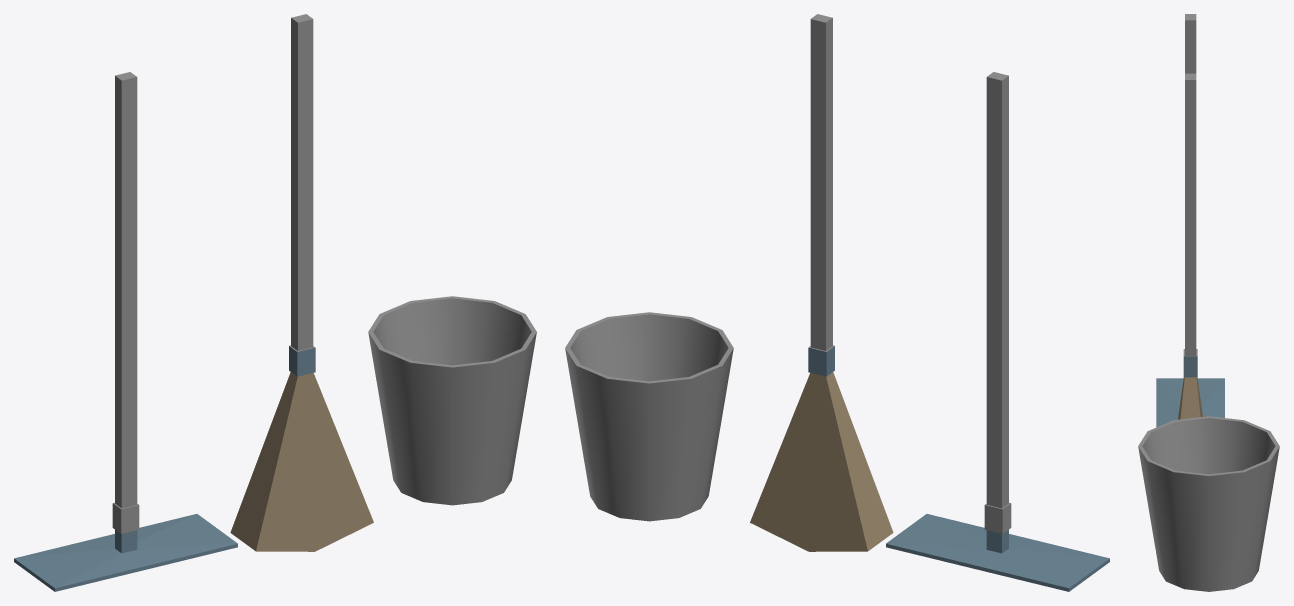
File: Cleaning_Tools.FBX
3 views of the same model, side by side, from view 1: azimuth 30°, elevation 25°; view 2: azimuth 150°, elevation 25°; view 3: azimuth 270°, elevation 25° (orthographic). The views are drawn at different scales.
Parts seen in each view (by area): view 1: Cylinder001, Box001, Box002; view 2: Cylinder001, Box001, Box002; view 3: Cylinder001, Box001, Box002.
Part boxes in pixels (x1=…): Cylinder001: x1=368, y1=296, x2=536, y2=505; Box001: x1=230, y1=14, x2=373, y2=551; Box002: x1=14, y1=72, x2=237, y2=591; Cylinder001: x1=565, y1=312, x2=733, y2=521; Box001: x1=750, y1=14, x2=893, y2=551; Box002: x1=886, y1=72, x2=1109, y2=591; Cylinder001: x1=1138, y1=416, x2=1279, y2=591; Box001: x1=1178, y1=73, x2=1202, y2=419; Box002: x1=1156, y1=14, x2=1224, y2=427.
Bounding box in the file's own units: 256 × 255 × 74.36.
